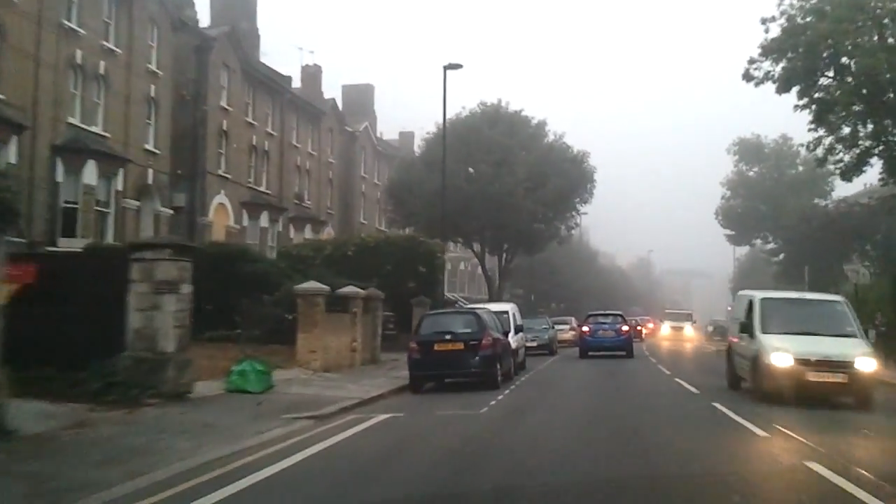car: (724, 288, 880, 411), (405, 306, 515, 393), (456, 302, 528, 379), (576, 310, 635, 360), (512, 315, 558, 358), (544, 315, 583, 348), (658, 308, 698, 339), (616, 317, 644, 342), (705, 318, 731, 342), (632, 315, 655, 339), (646, 317, 662, 334)
